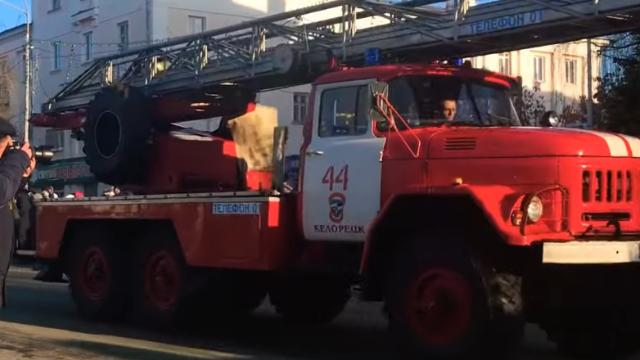fire fighting vehicle: (33, 3, 639, 358)
